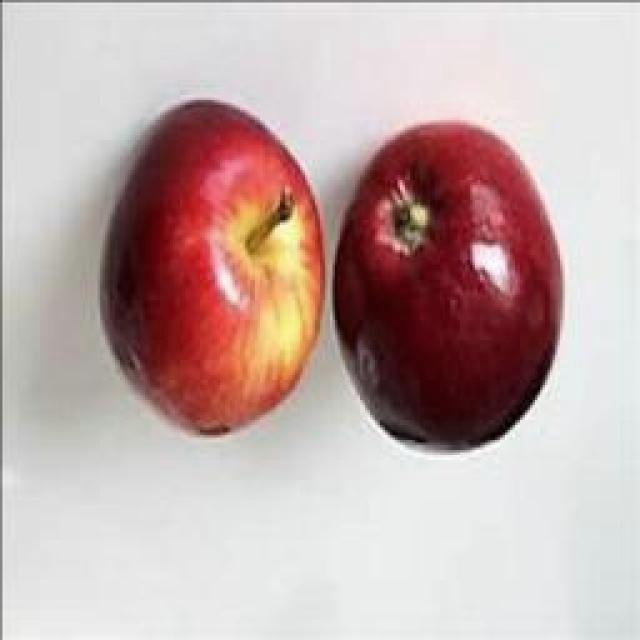apple: (103, 99, 325, 435), (334, 122, 561, 448)
